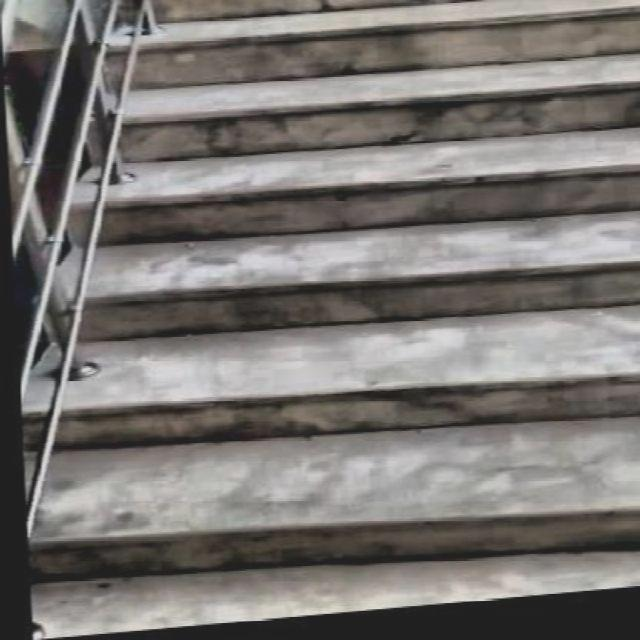stair: (16, 0, 638, 620)
